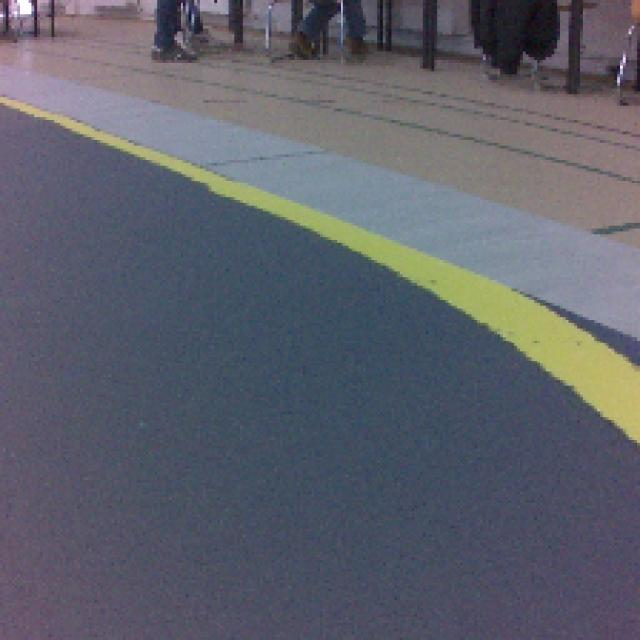Pedestrian crosswalk: (275, 198, 640, 446)
